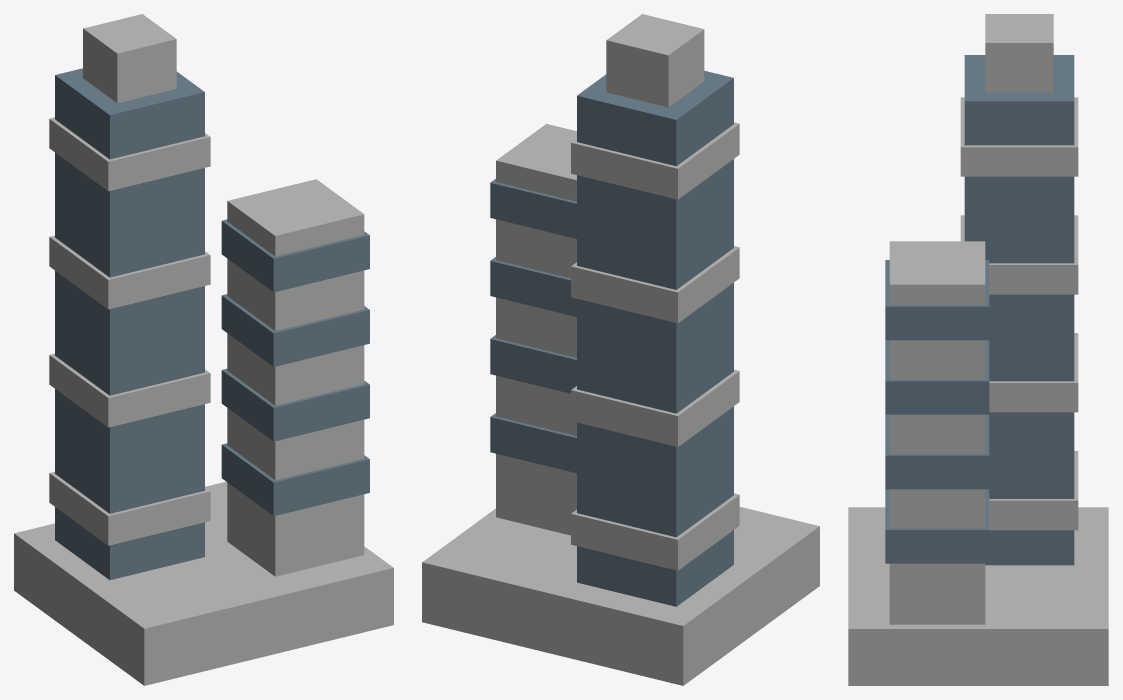
File: house-atomic-2.glb
The picture shows the model from 3 angles, left to right: view 1: azimuth 30°, elevation 25°; view 2: azimuth 150°, elevation 25°; view 3: azimuth 270°, elevation 25°; orthographic projection. The views are drawn at different scales.
Parts seen in each view (by area): view 1: LOD0; view 2: LOD0; view 3: LOD0.
Part boxes in pixels (x1=…): LOD0: x1=14, y1=14, x2=393, y2=685; LOD0: x1=422, y1=14, x2=819, y2=685; LOD0: x1=848, y1=14, x2=1108, y2=685.
Size of what is drawn, in the model's own units: 0.21 by 0.46 by 0.19.
